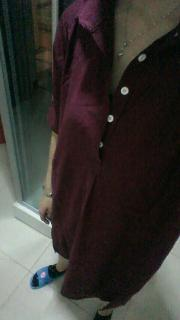long sleeve dress: (47, 0, 180, 310)
